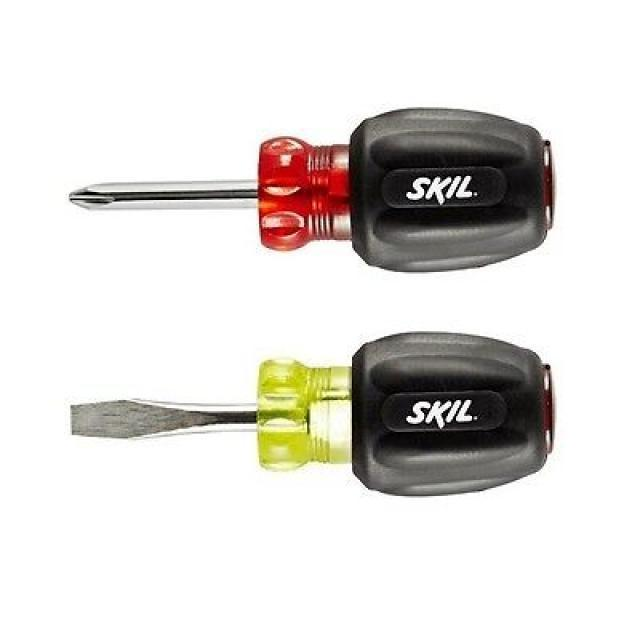screwdriver: (64, 98, 562, 282), (59, 326, 564, 502)
